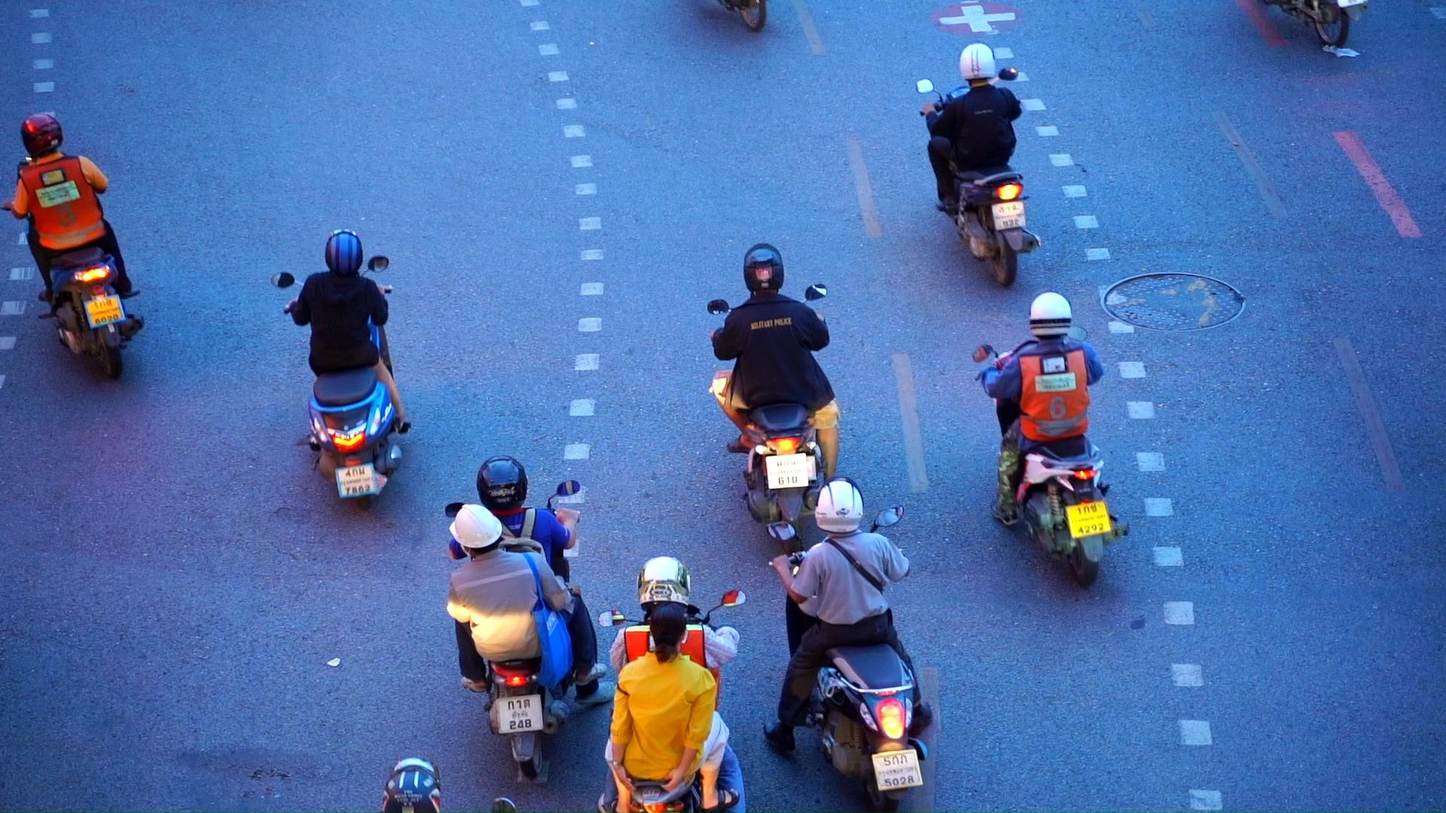driver: (762, 476, 932, 813), (444, 455, 618, 779), (971, 288, 1130, 587), (708, 243, 841, 555), (271, 229, 412, 511), (0, 113, 145, 379), (598, 556, 747, 813), (916, 42, 1043, 288)
helmet: (380, 756, 442, 813), (449, 503, 503, 562), (636, 556, 692, 612), (815, 476, 865, 534), (477, 455, 527, 512), (1029, 287, 1073, 340), (743, 243, 784, 299), (20, 114, 64, 161), (324, 229, 363, 278), (959, 43, 995, 86)
no-helmet: (650, 602, 689, 665)
